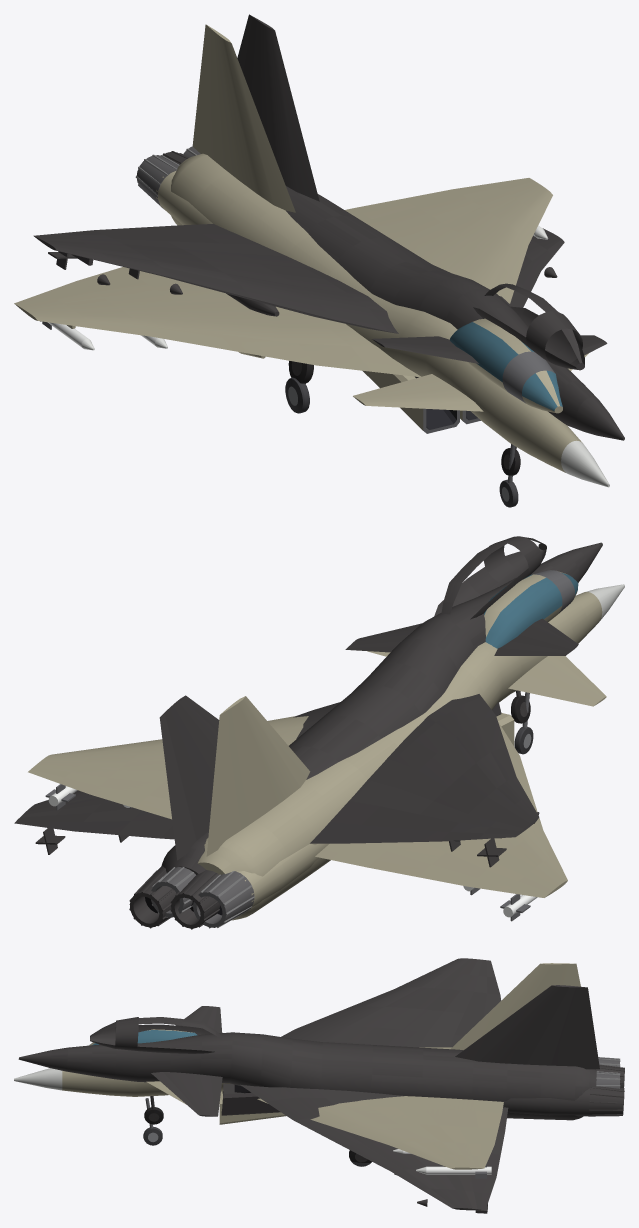
Rendered from lightFighter__eurofighter_typhoon.glb.
3 views of the same model, one above another, from view 1: azimuth 30°, elevation 25°; view 2: azimuth 150°, elevation 25°; view 3: azimuth 270°, elevation 25° (orthographic). The views are drawn at different scales.
Parts seen in each view (by area): view 1: Fuselage_Mesh, Wreck; view 2: Wreck, Fuselage_Mesh; view 3: Wreck, Fuselage_Mesh.
Part boxes in pixels (box(x1,y1,x2,y2)): Fuselage_Mesh: box(14, 24, 609, 507); Wreck: box(33, 14, 624, 475); Wreck: box(14, 536, 602, 929); Fuselage_Mesh: box(28, 570, 624, 928); Wreck: box(18, 958, 624, 1213); Fuselage_Mesh: box(14, 963, 620, 1178).
Size of what is drawn, in the model's own units: 11.22 by 5.28 by 16.12.
